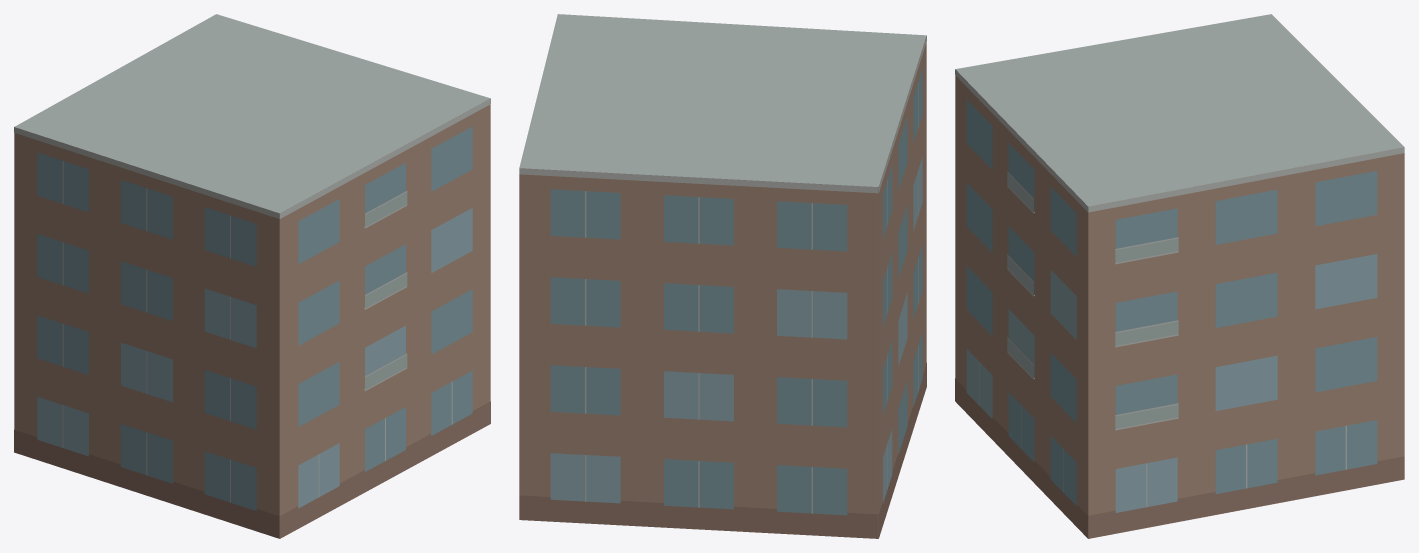
Rendered from survey-upis-32848100.glb.
3 renders of one model, left to right at view 1: azimuth 30°, elevation 25°; view 2: azimuth 150°, elevation 25°; view 3: azimuth 270°, elevation 25°, orthographic. The views are drawn at different scales.
Parts seen in each view (by area): view 1: survey-upis-32848100.tmp; view 2: survey-upis-32848100.tmp; view 3: survey-upis-32848100.tmp.
Boxes of the visible parts, x1=… form: survey-upis-32848100.tmp: x1=14, y1=14, x2=490, y2=538; survey-upis-32848100.tmp: x1=519, y1=14, x2=926, y2=538; survey-upis-32848100.tmp: x1=955, y1=14, x2=1404, y2=538.
Size of the model in its own units: 17.17 by 13.8 by 16.93.
